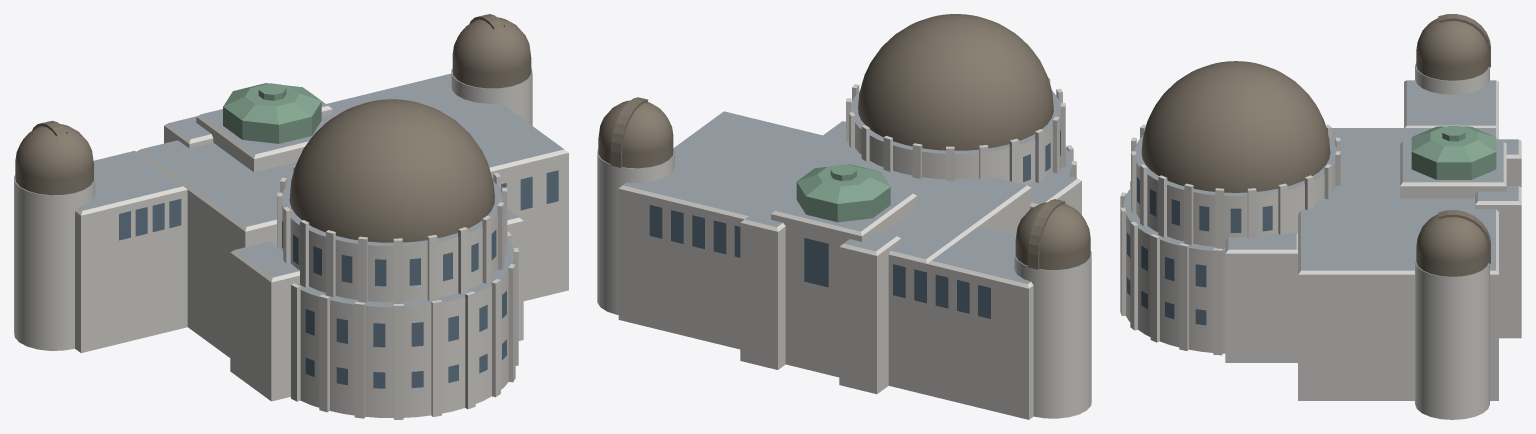
The model's file is detail.glb.
3 views of the same model, side by side, from view 1: azimuth 30°, elevation 25°; view 2: azimuth 150°, elevation 25°; view 3: azimuth 270°, elevation 25° (orthographic). The views are drawn at different scales.
Parts seen in each view (by area): view 1: griffith-observatory; view 2: griffith-observatory; view 3: griffith-observatory.
Part boxes in pixels (bbox=[...]): griffith-observatory: bbox=[14, 14, 568, 419]; griffith-observatory: bbox=[597, 14, 1091, 419]; griffith-observatory: bbox=[1120, 14, 1521, 419].
Bounding box in the file's own units: 71.9 × 34.8 × 53.5.
